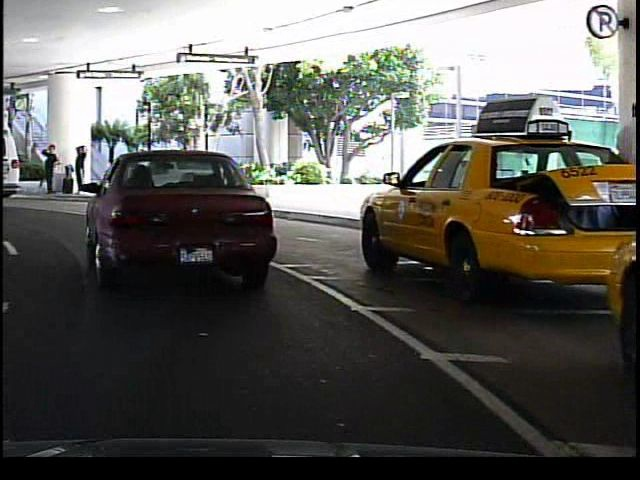person: (125, 143, 154, 200), (36, 141, 58, 200), (68, 141, 87, 198)
